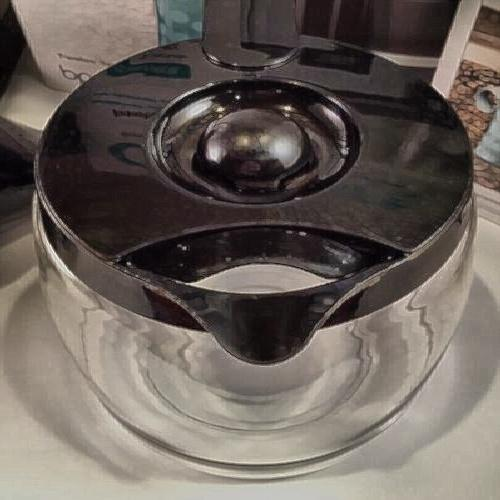coffee_maker: (54, 52, 465, 432)
